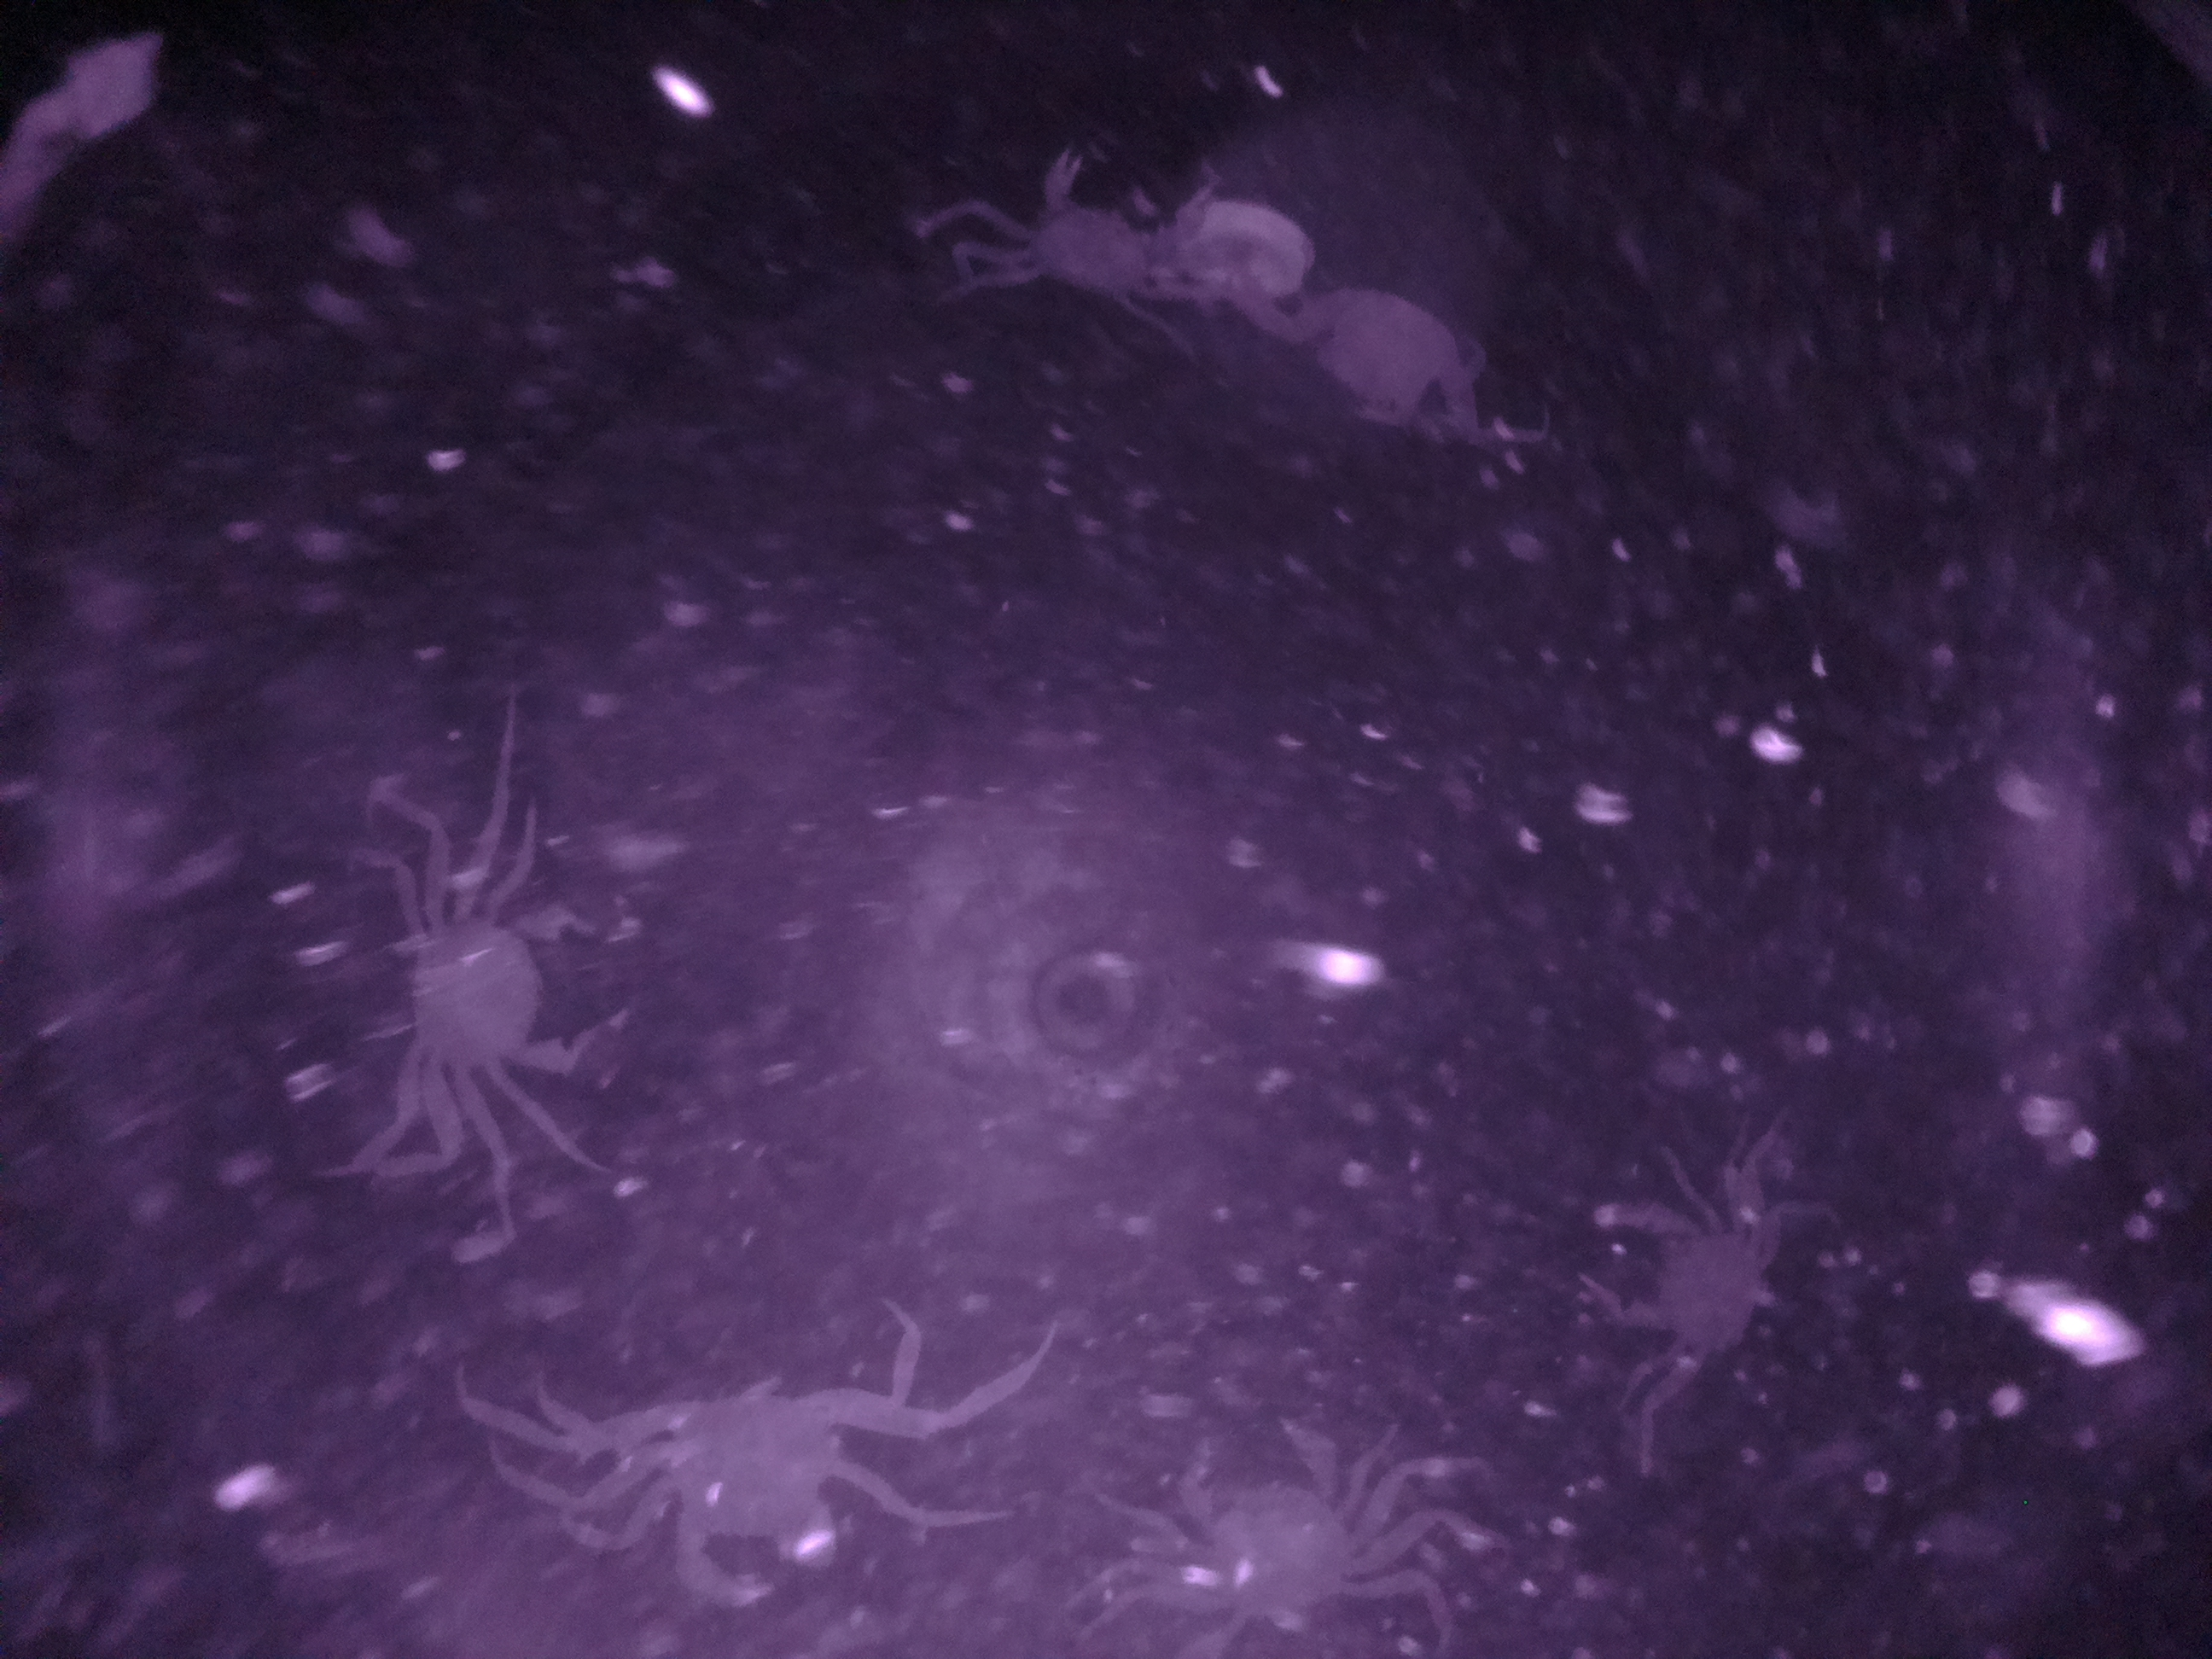Crab: (359, 866, 676, 1152), (592, 1356, 883, 1643), (1132, 1398, 1392, 1659), (1552, 1166, 1801, 1398), (989, 113, 1233, 345)
